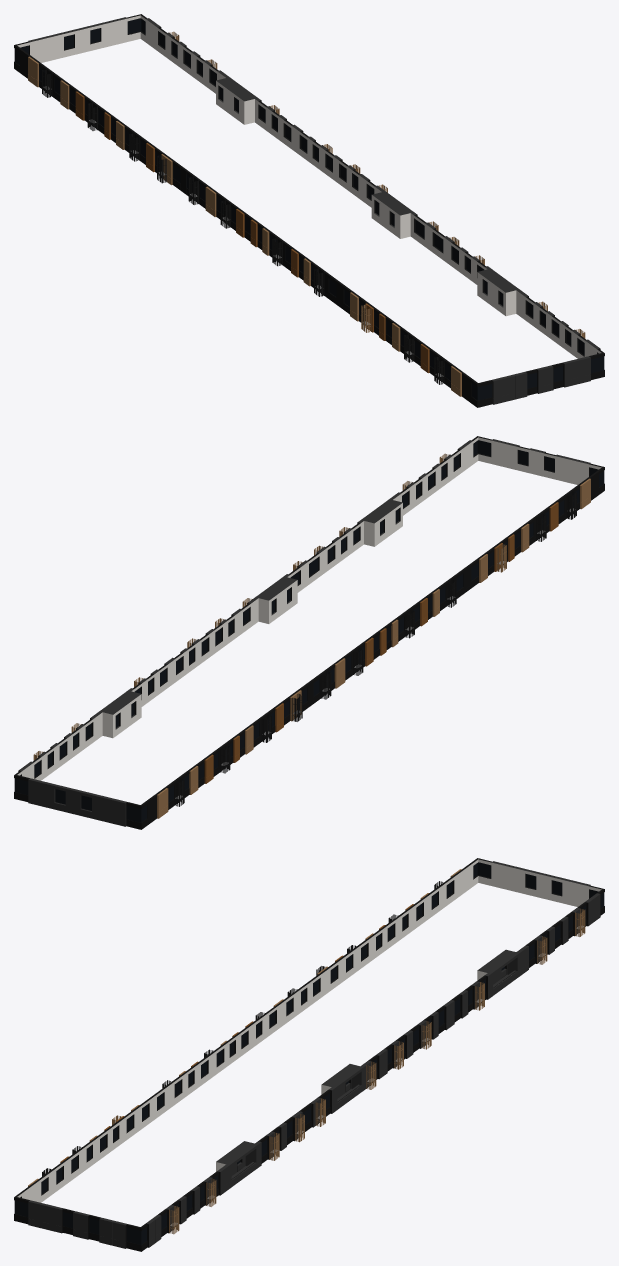
The model's file is floor_16_ext.FBX.
3 views of the same model, one above another, from view 1: azimuth 30°, elevation 25°; view 2: azimuth 150°, elevation 25°; view 3: azimuth 330°, elevation 25° (orthographic).
Parts seen in each view (by area): view 1: floor_16_ext; view 2: floor_16_ext; view 3: floor_16_ext.
Boxes of the visible parts, x1=… form: floor_16_ext: x1=14, y1=14, x2=604, y2=407; floor_16_ext: x1=14, y1=436, x2=604, y2=829; floor_16_ext: x1=14, y1=858, x2=604, y2=1251.
Size of the model in its own units: 18.75 by 3 by 108.
